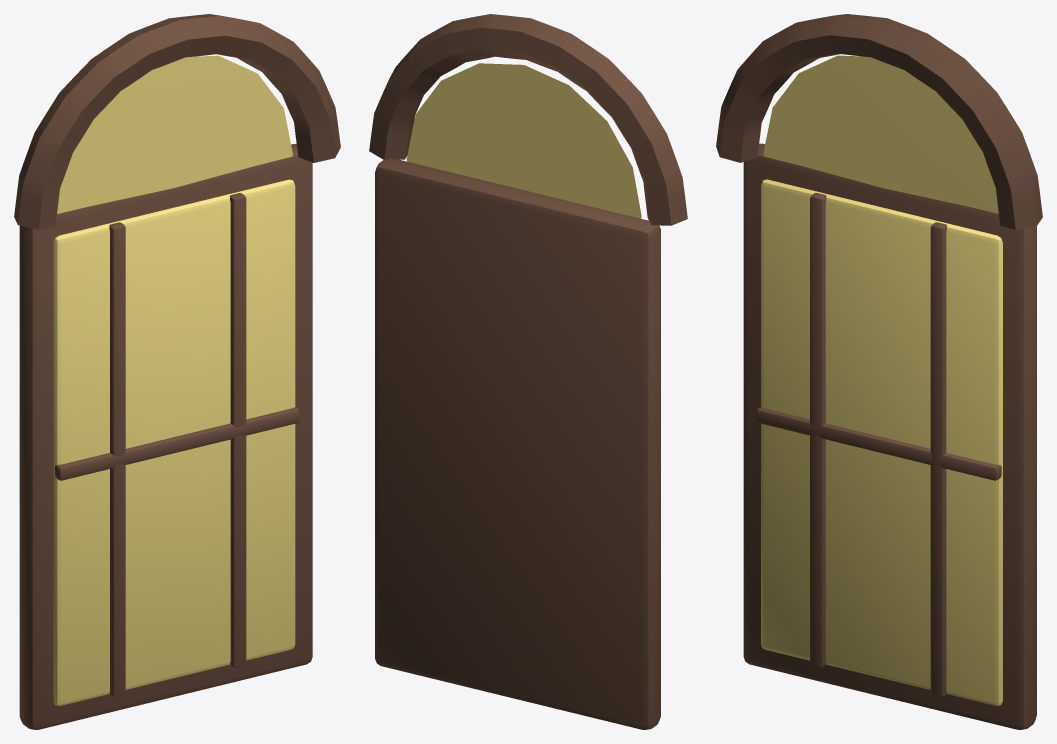
Rendered from ArchWindow.fbx.
3 renders of one model, left to right at view 1: azimuth 30°, elevation 25°; view 2: azimuth 150°, elevation 25°; view 3: azimuth 330°, elevation 25°, orthographic. The views are drawn at different scales.
Parts seen in each view (by area): view 1: ArchWindow; view 2: ArchWindow; view 3: ArchWindow.
Boxes of the visible parts, x1,y1,x2,y2 form: ArchWindow: (14,14,340,729); ArchWindow: (369,14,687,729); ArchWindow: (716,14,1042,729).
Size of the model in its own units: 5.88 by 11.94 by 0.9385.
